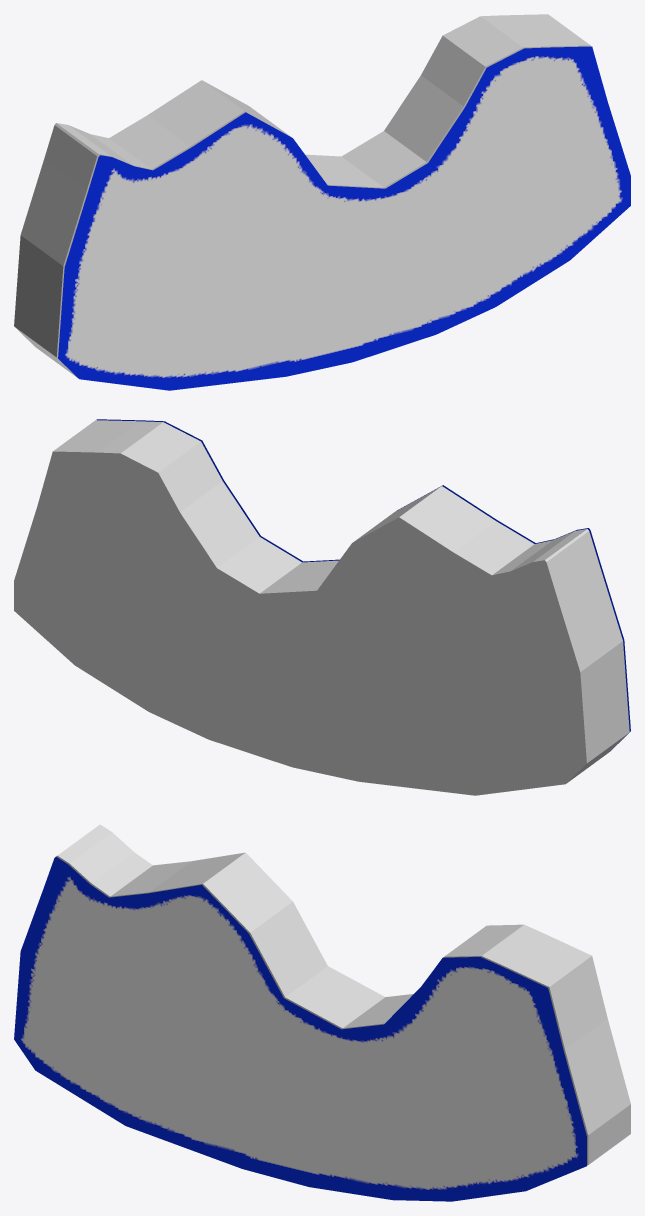
3 views of the same model, one above another, from view 1: azimuth 30°, elevation 25°; view 2: azimuth 150°, elevation 25°; view 3: azimuth 330°, elevation 25° (orthographic).
Parts seen in each view (by area): view 1: In4_1, In4_0; view 2: In4_0, In4_1; view 3: In4_1, In4_0.
Part boxes in pixels (x1,y1,x2,y2): In4_1: (58,46,630,390); In4_0: (14,14,590,377); In4_0: (14,420,629,795); In4_1: (96,419,630,751); In4_1: (14,856,586,1201); In4_0: (56,824,630,1165).
Size of the model in its own units: 3.87 by 1.78 by 0.515.
2 materials, 1 textured.
